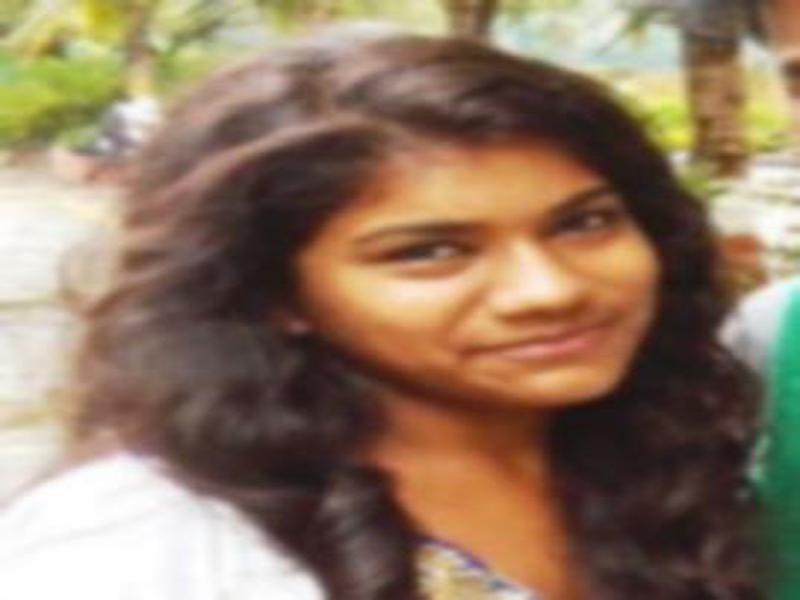without_mask: (314, 153, 655, 408)
